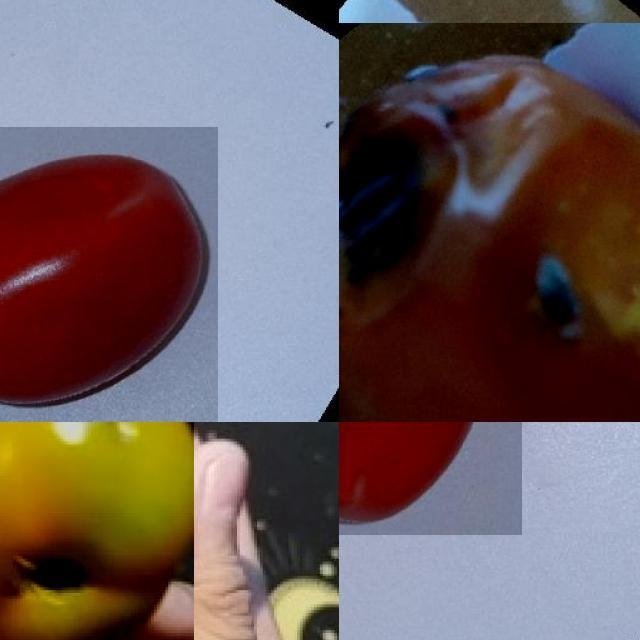Fresh Tomato: (0, 126, 217, 422), (339, 422, 522, 535)
Rotten Tomato: (339, 23, 640, 422), (0, 422, 194, 640)
